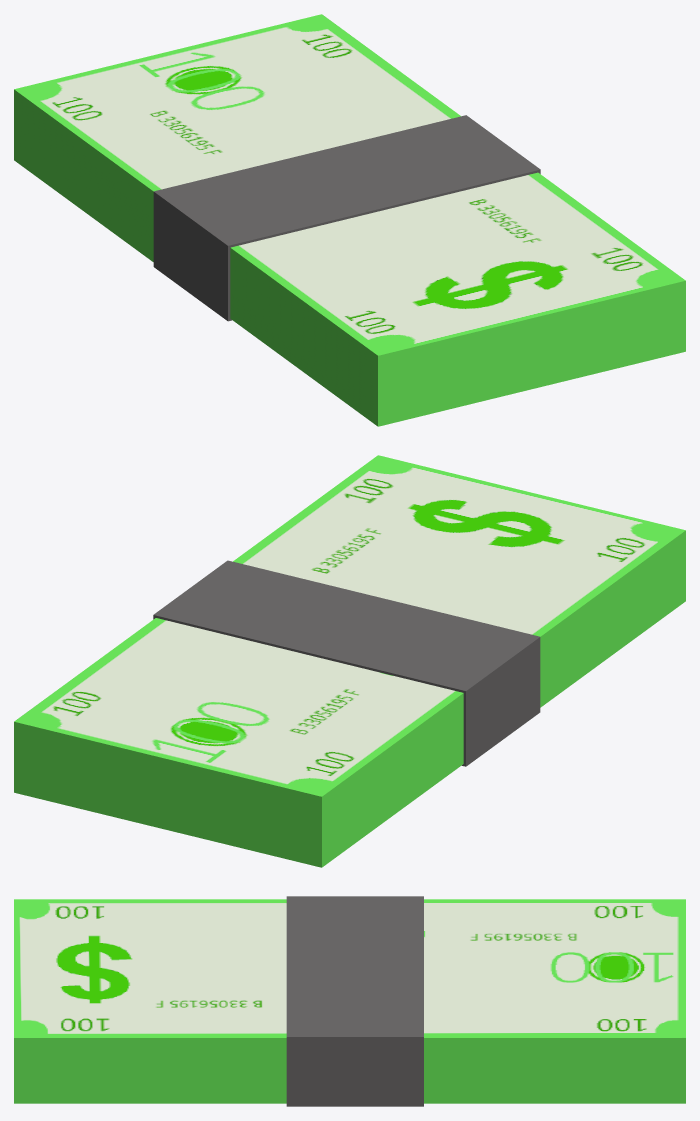
Rendered from Money100.fbx.
3 renders of one model, top to bottom at view 1: azimuth 30°, elevation 25°; view 2: azimuth 150°, elevation 25°; view 3: azimuth 270°, elevation 25°, orthographic. The views are drawn at different scales.
Parts seen in each view (by area): view 1: Cube; view 2: Cube; view 3: Cube.
Boxes of the visible parts, x1,y1,x2,y2 form: Cube: (14,14,685,426); Cube: (14,455,685,867); Cube: (14,896,685,1106).
Bounding box in the file's own units: 99.19 × 22.9 × 200.
1 material, 1 textured.
